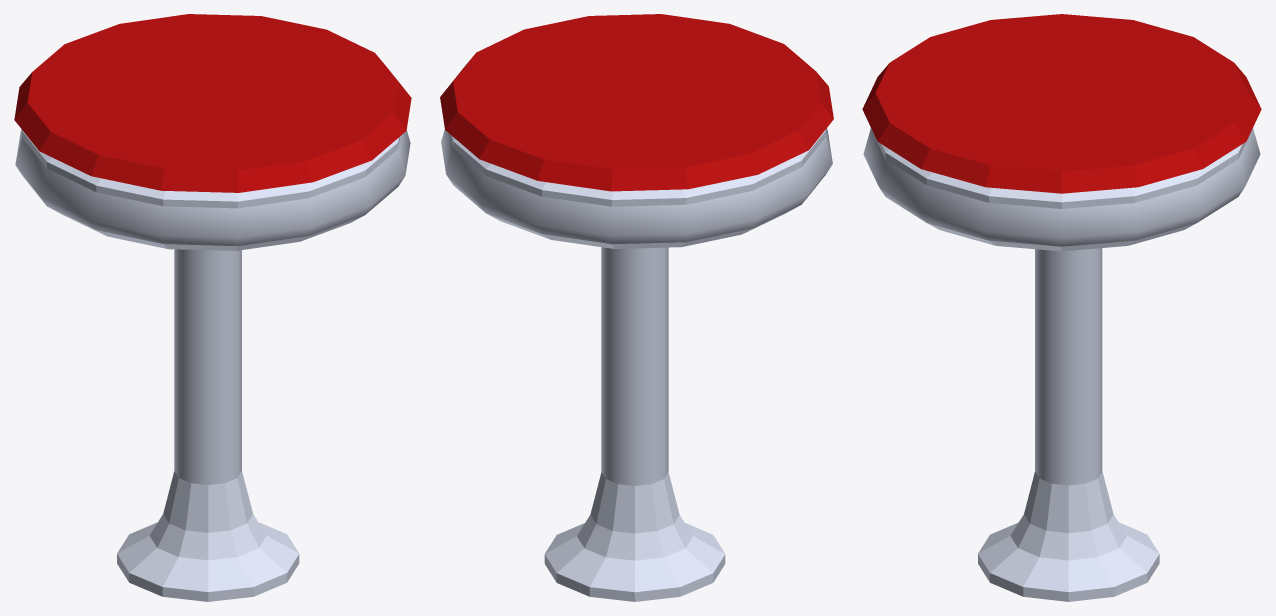
Rendered from SM_stool_01.fbx.
3 views of the same model, side by side, from view 1: azimuth 30°, elevation 25°; view 2: azimuth 150°, elevation 25°; view 3: azimuth 270°, elevation 25° (orthographic).
Visible parts, largest first — view 1: stool_01; view 2: stool_01; view 3: stool_01.
Boxes of the visible parts, box(x1,y1,x2,y2) form: stool_01: box(14, 14, 411, 601); stool_01: box(440, 14, 833, 601); stool_01: box(862, 14, 1261, 601).
Bounding box in the file's own units: 36.04 × 46.96 × 36.04.
